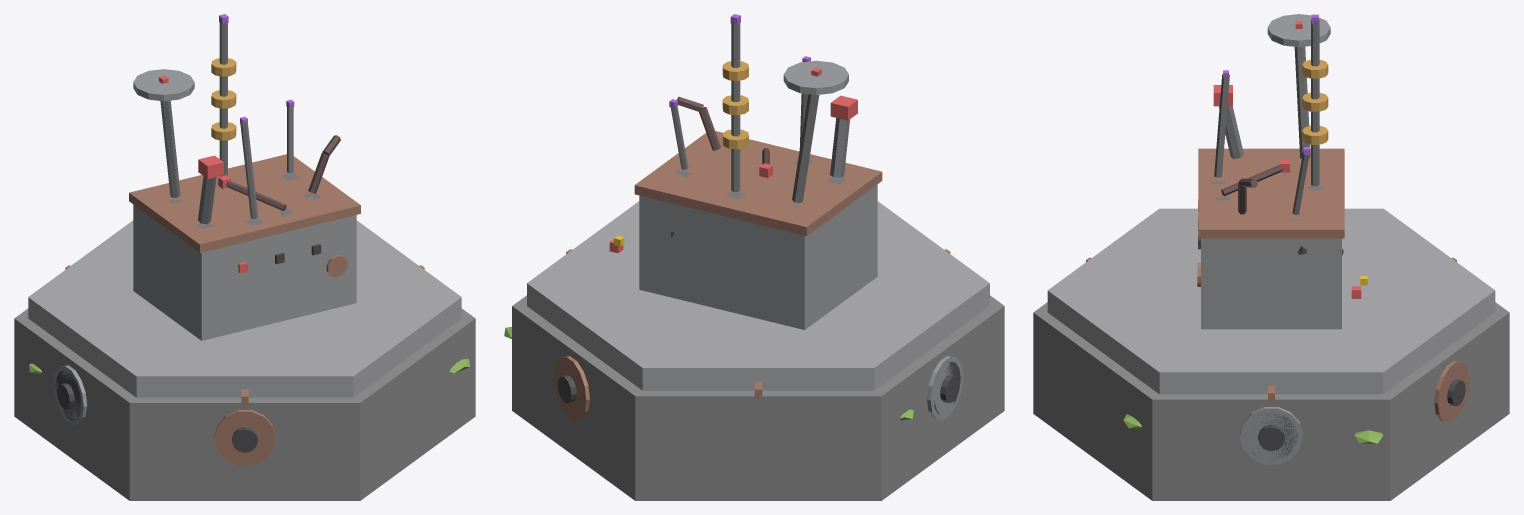
Rendered from jammer_s2_50.glb.
3 renders of one model, left to right at view 1: azimuth 30°, elevation 25°; view 2: azimuth 150°, elevation 25°; view 3: azimuth 270°, elevation 25°, orthographic. The views are drawn at different scales.
Parts seen in each view (by area): view 1: JM_Base; view 2: JM_Base; view 3: JM_Base.
Boxes of the visible parts, <box> form: JM_Base: <box>14,14,475,500</box>; JM_Base: <box>504,14,1004,500</box>; JM_Base: <box>1033,14,1509,500</box>.
Size of the model in its own units: 1.82 by 1.8 by 1.96.
